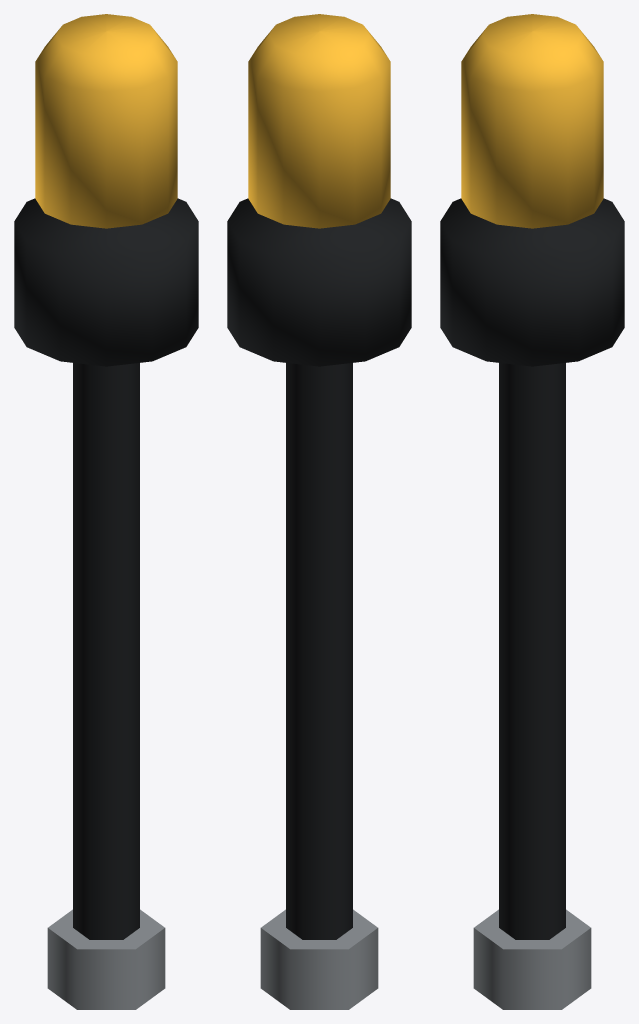
File: mooring_light_LOD0.glb
3 views of the same model, side by side, from view 1: azimuth 30°, elevation 25°; view 2: azimuth 150°, elevation 25°; view 3: azimuth 270°, elevation 25° (orthographic).
Parts seen in each view (by area): view 1: CornerLight; view 2: CornerLight; view 3: CornerLight.
Part boxes in pixels (bbox=[...]): CornerLight: bbox=[14, 14, 198, 1009]; CornerLight: bbox=[227, 14, 411, 1009]; CornerLight: bbox=[440, 14, 624, 1009].
Bounding box in the file's own units: 0.22 × 1.26 × 0.22.
